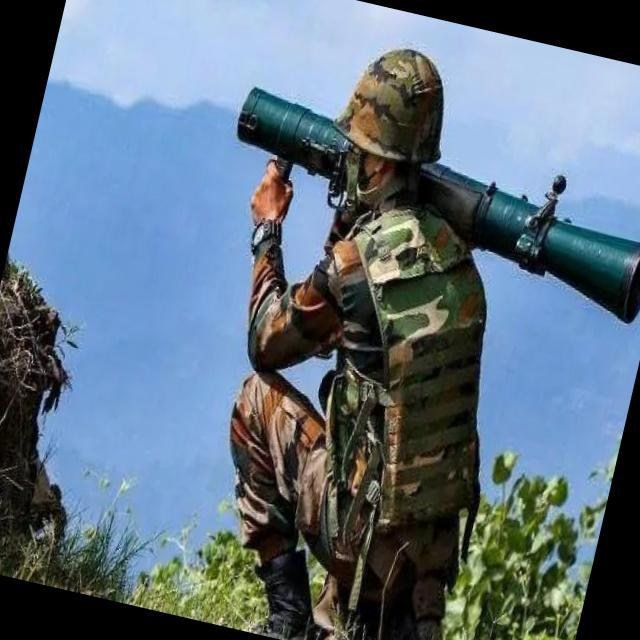rocket: (216, 70, 640, 329)
